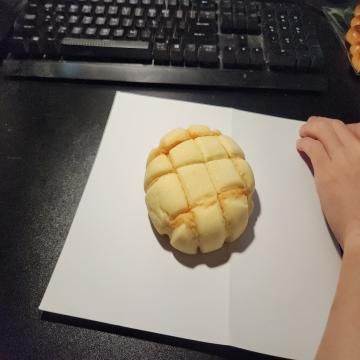melon_bread: (144, 124, 256, 255)
